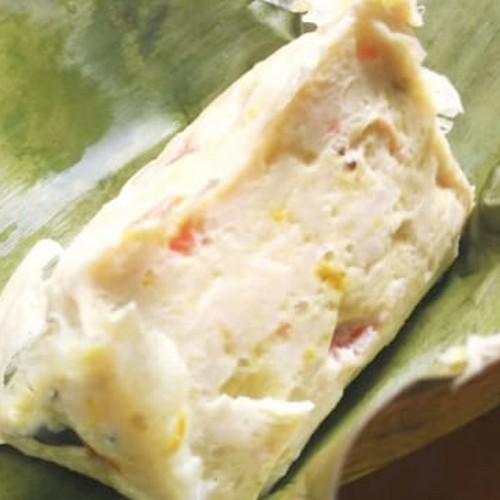tum ayam: (10, 1, 412, 475)
